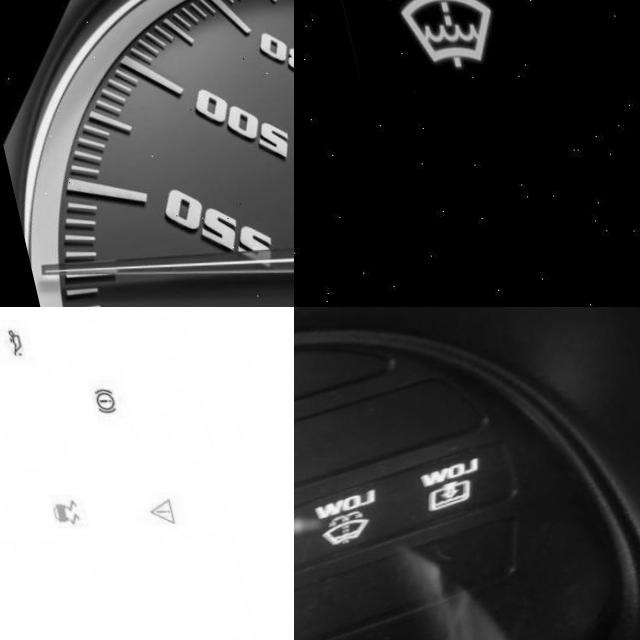Washer Fluid: (373, 0, 488, 73), (295, 510, 353, 548)
